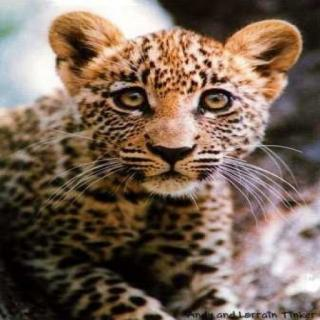Leopard: (0, 5, 314, 194)
